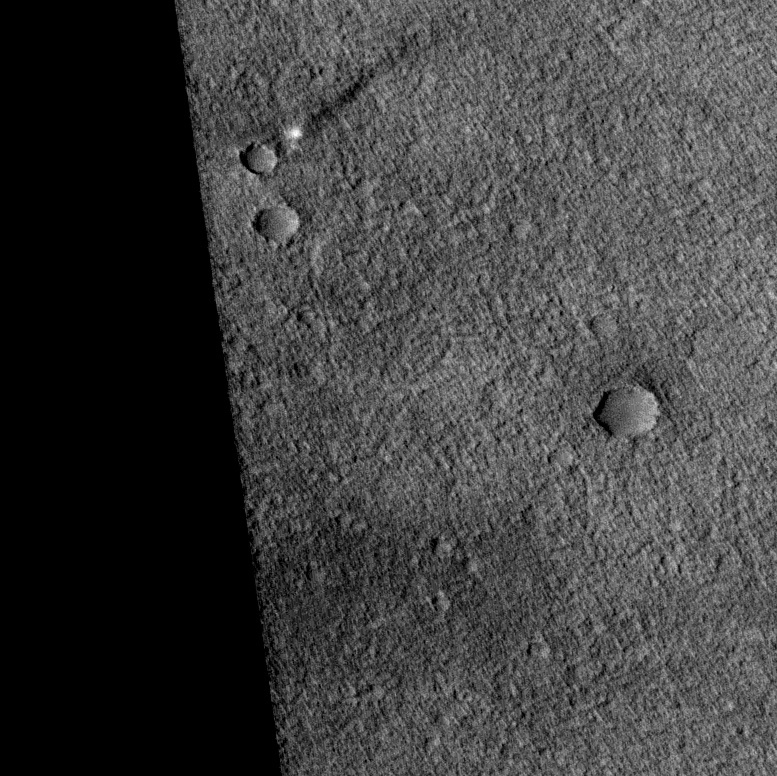dust_devil: (284, 30, 419, 143)
